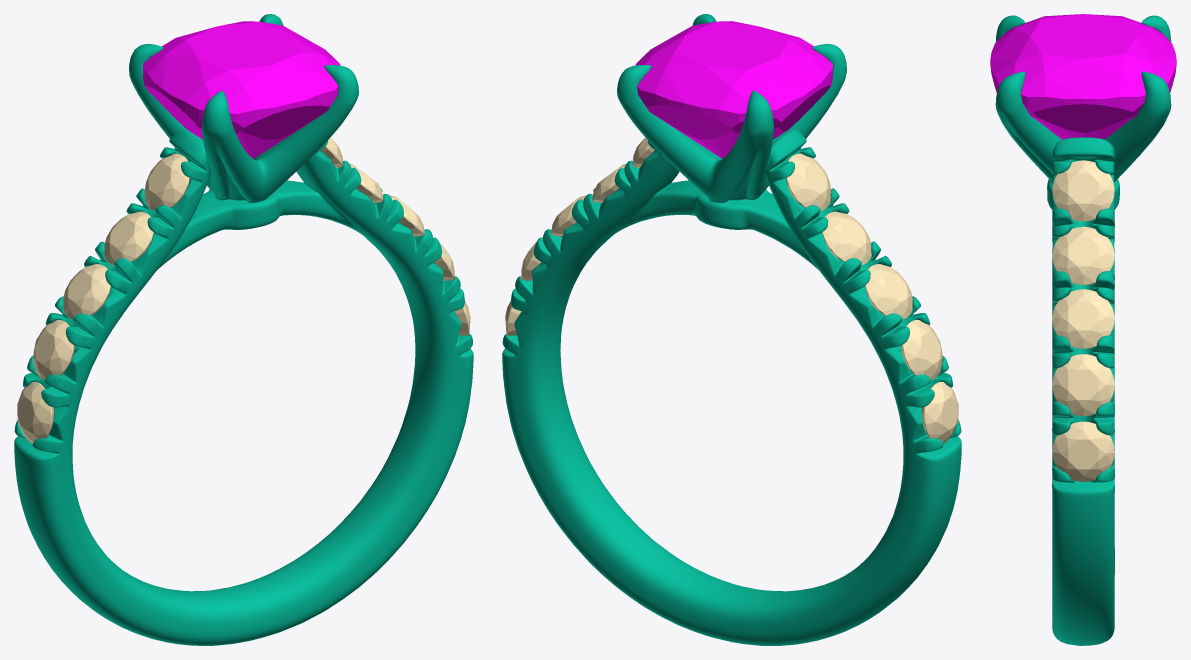
The model's file is BE1D1025_CU_200ct_RENDER.glb.
3 views of the same model, side by side, from view 1: azimuth 30°, elevation 25°; view 2: azimuth 150°, elevation 25°; view 3: azimuth 270°, elevation 25° (orthographic).
Parts seen in each view (by area): view 1: Metal 01, CS_Diamond_Cushion, Diamond_Round_Gem_SH.007, Diamond_Round_Gem_SH.008, Diamond_Round_Gem_SH.009, Diamond_Round_Gem_SH.006, Diamond_Round_Gem_SH.005; view 2: Metal 01, CS_Diamond_Cushion, Diamond_Round_Gem_SH.007, Diamond_Round_Gem_SH.008, Diamond_Round_Gem_SH.009, Diamond_Round_Gem_SH.006, Diamond_Round_Gem_SH.005; view 3: Metal 01, CS_Diamond_Cushion, Diamond_Round_Gem_SH.003, Diamond_Round_Gem_SH, Diamond_Round_Gem_SH.004, Diamond_Round_Gem_SH.002, Diamond_Round_Gem_SH.001.
Boxes of the visible parts, x1,y1,x2,y2 form: Metal 01: (14,14,473,645); CS_Diamond_Cushion: (143,21,340,158); Diamond_Round_Gem_SH.007: (63,264,110,319); Diamond_Round_Gem_SH.008: (104,211,153,265); Diamond_Round_Gem_SH.009: (144,153,189,211); Diamond_Round_Gem_SH.006: (33,320,74,380); Diamond_Round_Gem_SH.005: (17,382,54,443); Metal 01: (502,14,961,645); CS_Diamond_Cushion: (635,21,832,158); Diamond_Round_Gem_SH.007: (865,264,912,319); Diamond_Round_Gem_SH.008: (822,211,871,265); Diamond_Round_Gem_SH.009: (786,153,831,211); Diamond_Round_Gem_SH.006: (901,320,942,380); Diamond_Round_Gem_SH.005: (921,382,958,443); Metal 01: (995,15,1171,645); CS_Diamond_Cushion: (990,14,1176,139); Diamond_Round_Gem_SH.003: (1052,354,1114,416); Diamond_Round_Gem_SH: (1052,160,1114,221); Diamond_Round_Gem_SH.004: (1052,421,1114,481); Diamond_Round_Gem_SH.002: (1052,289,1114,348); Diamond_Round_Gem_SH.001: (1052,226,1114,285).
Size of the model in its own units: 20.49 by 26.02 by 7.5.
